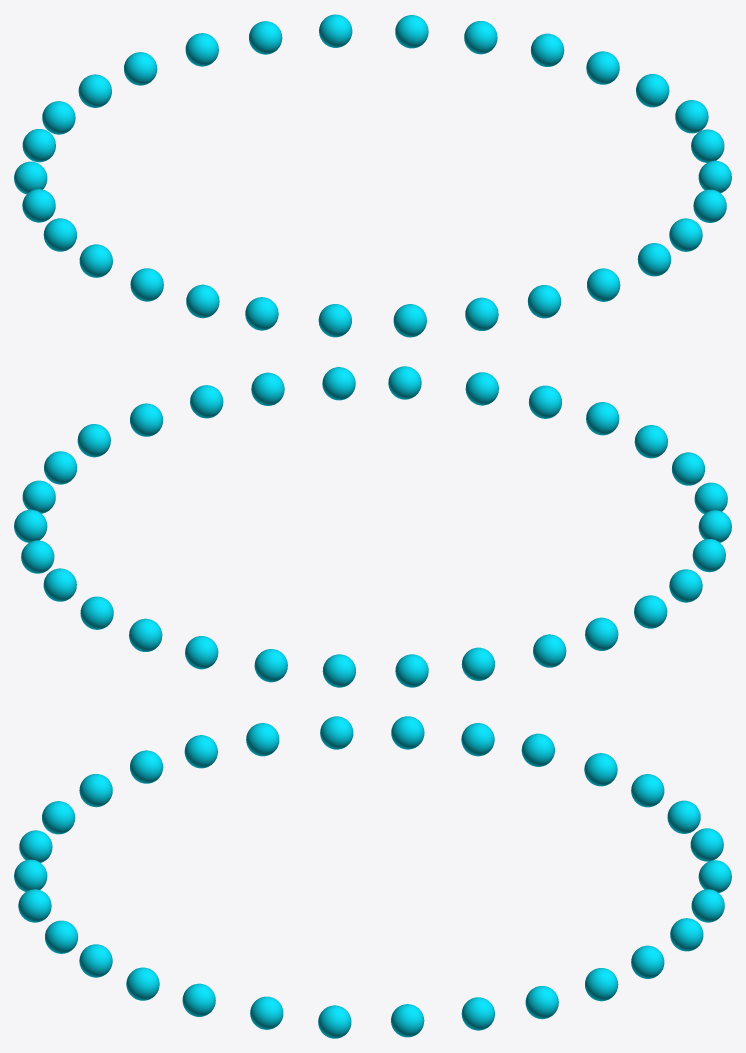
The picture shows the model from 3 angles, top to bottom: view 1: azimuth 30°, elevation 25°; view 2: azimuth 150°, elevation 25°; view 3: azimuth 270°, elevation 25°; orthographic projection.
Visible parts, largest first — view 1: Sphere050; view 2: Sphere050; view 3: Sphere050.
Boxes of the visible parts, x1,y1,x2,y2 form: Sphere050: (14, 14, 731, 337); Sphere050: (14, 366, 731, 687); Sphere050: (14, 716, 731, 1038).
Bounding box in the file's own units: 177 × 8.22 × 177.
